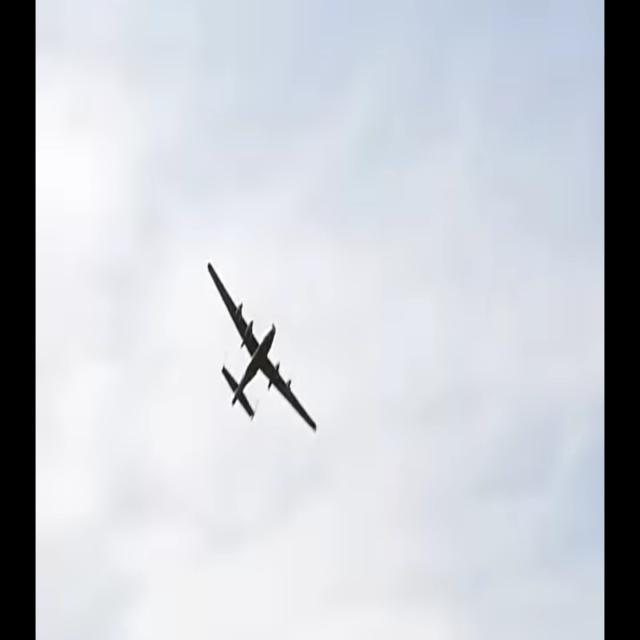iha: (238, 261, 286, 433)
